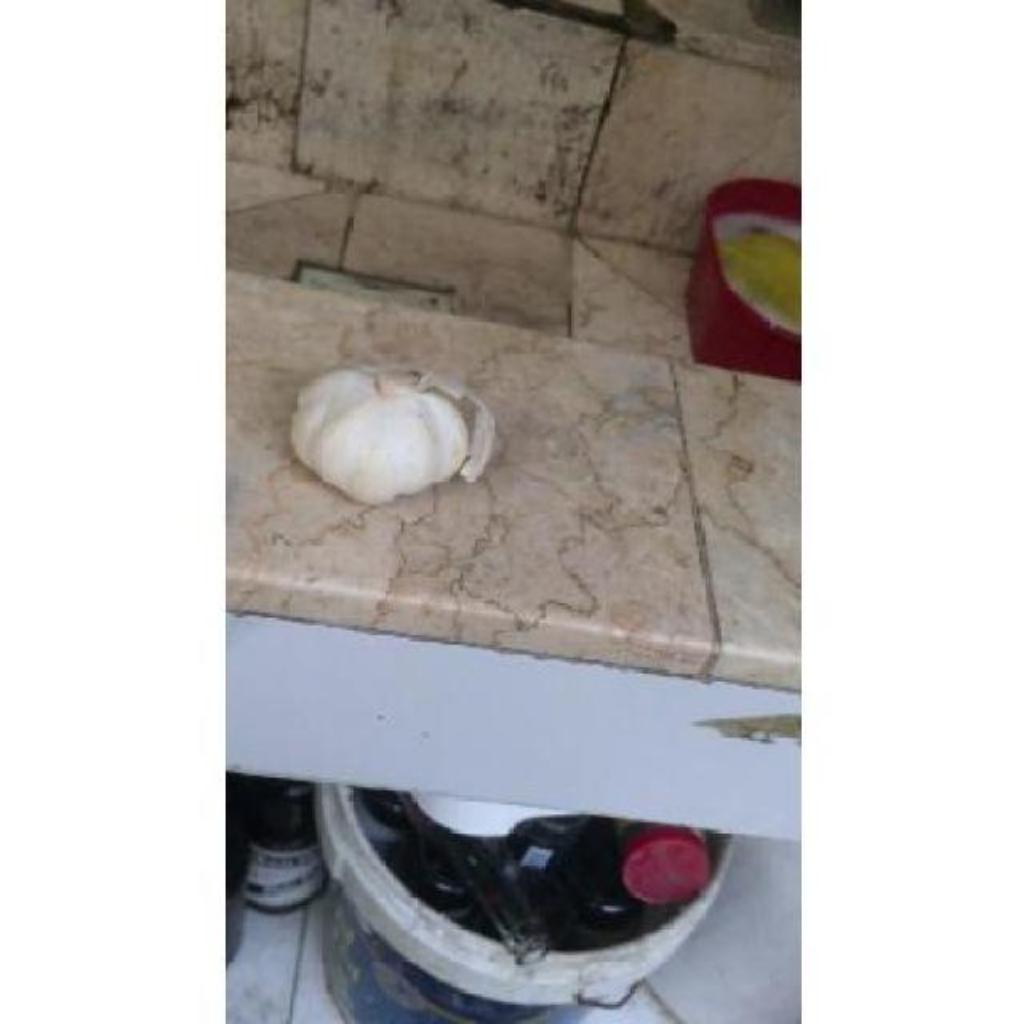garlic: (292, 366, 494, 503)
